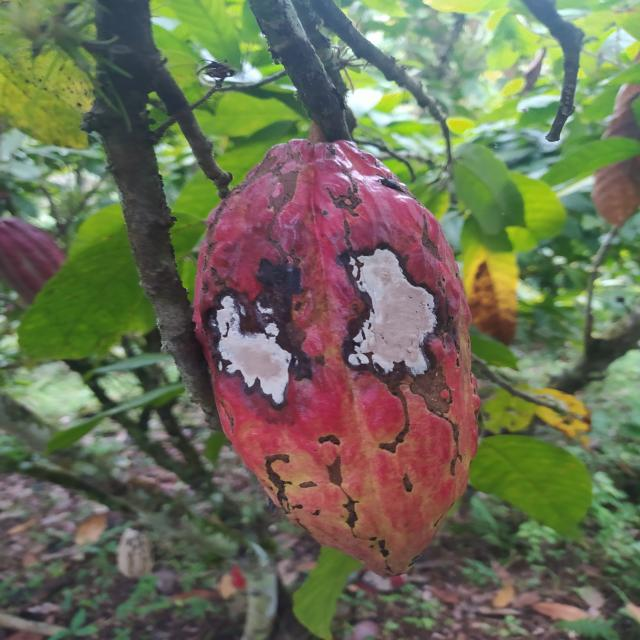Monilia: (189, 136, 484, 580)
